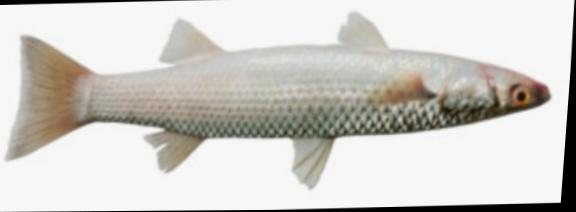fish: (6, 10, 553, 191)
